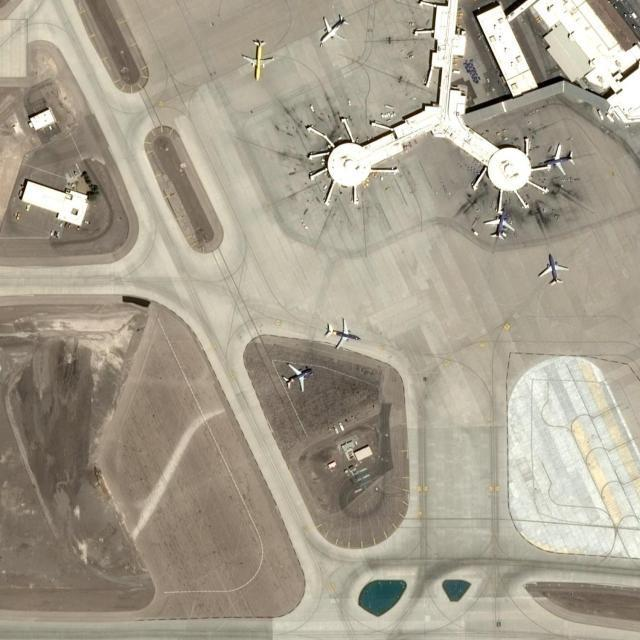Aircraft: (240, 39, 274, 79), (325, 317, 361, 351), (536, 252, 569, 286), (482, 207, 515, 240), (543, 143, 573, 177), (280, 361, 314, 391), (318, 13, 348, 44)
